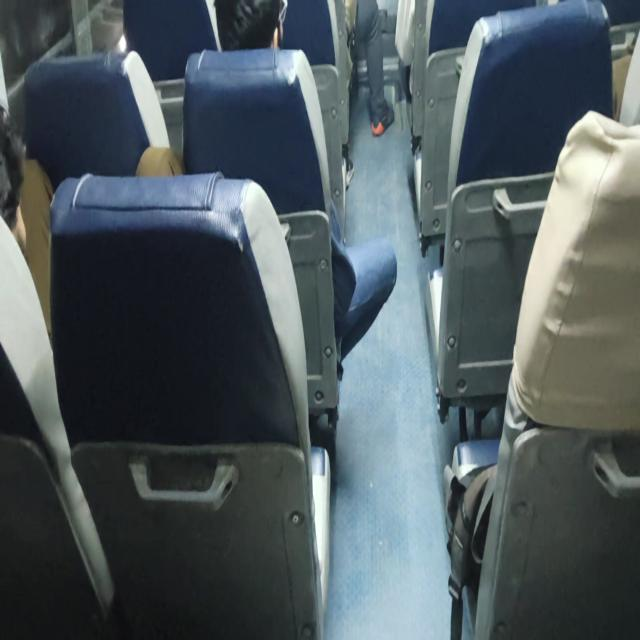person: (0, 96, 35, 287), (221, 0, 289, 55)
